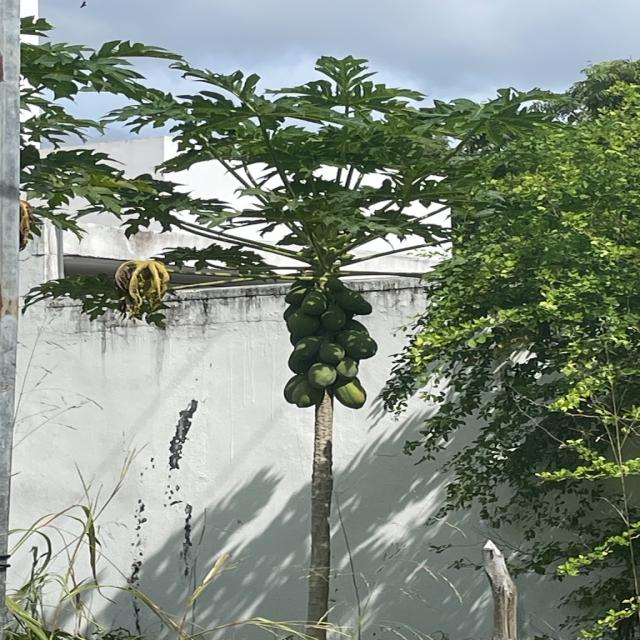Papaya-Tree: (90, 49, 552, 535)
